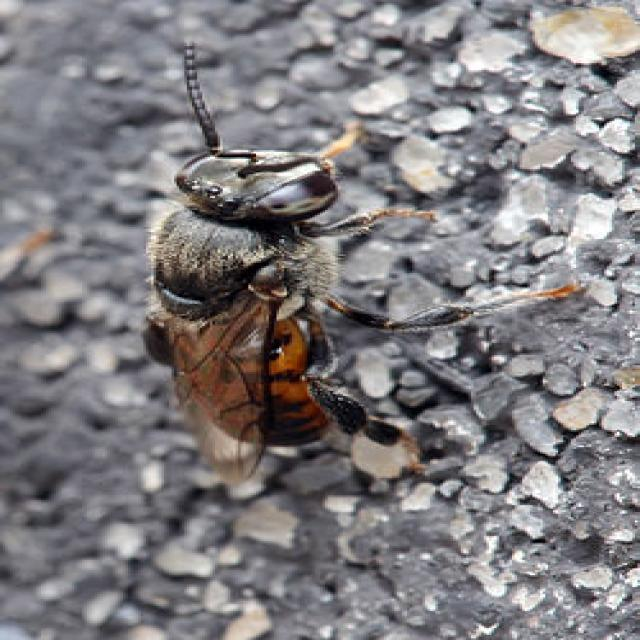Meliponula: (152, 29, 550, 491)
